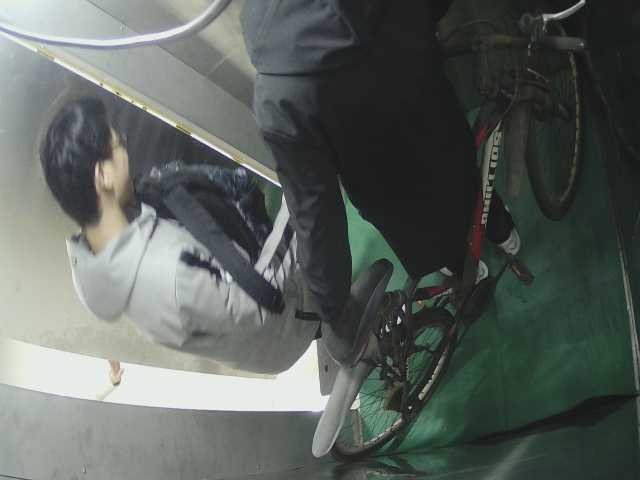bicycle: (306, 3, 594, 469)
person: (33, 88, 321, 374)
